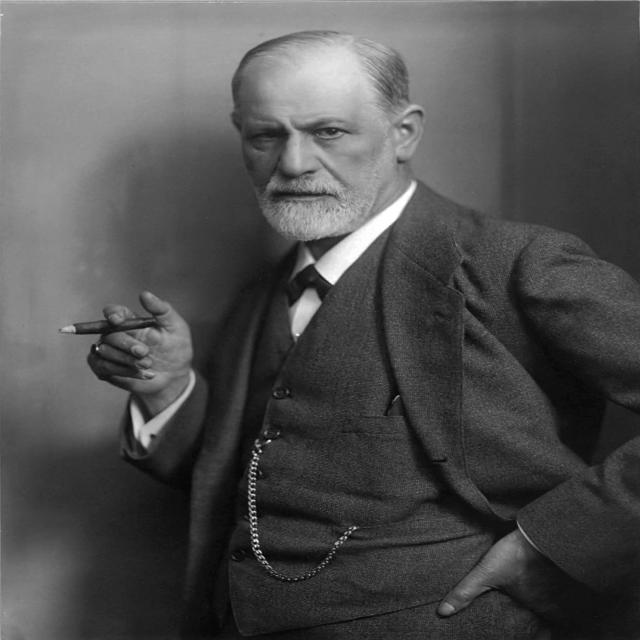cigarette: (36, 302, 184, 336)
